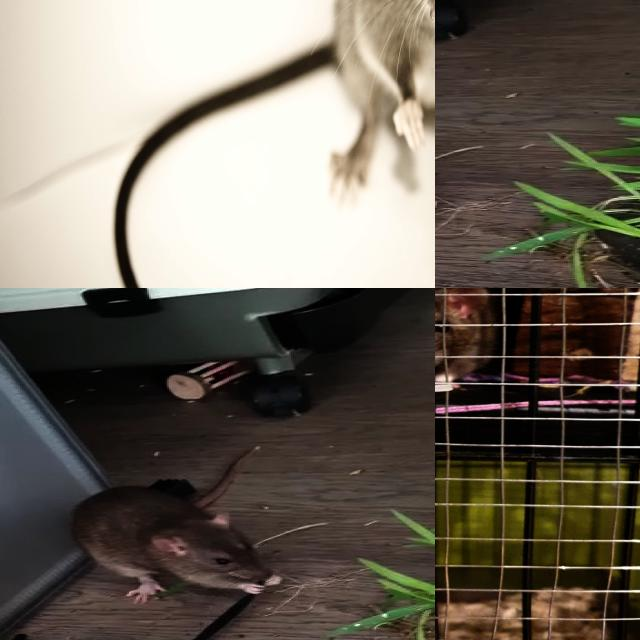rat: (67, 486, 286, 603), (435, 288, 504, 385)
